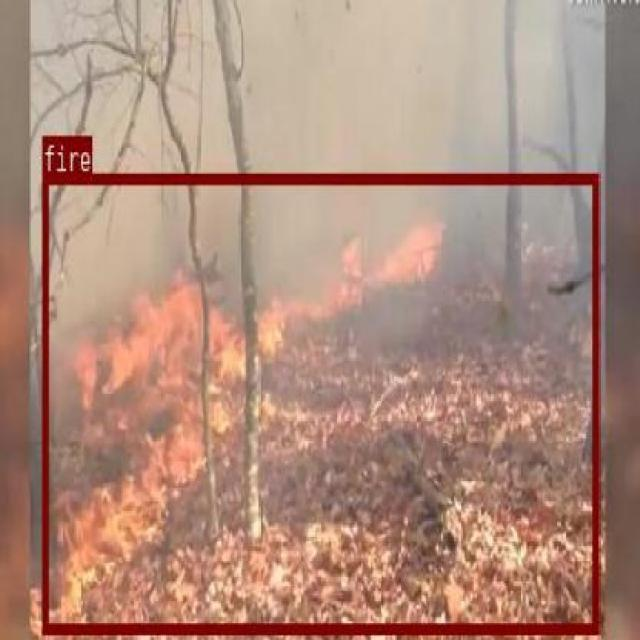Fire: (41, 173, 597, 633)
